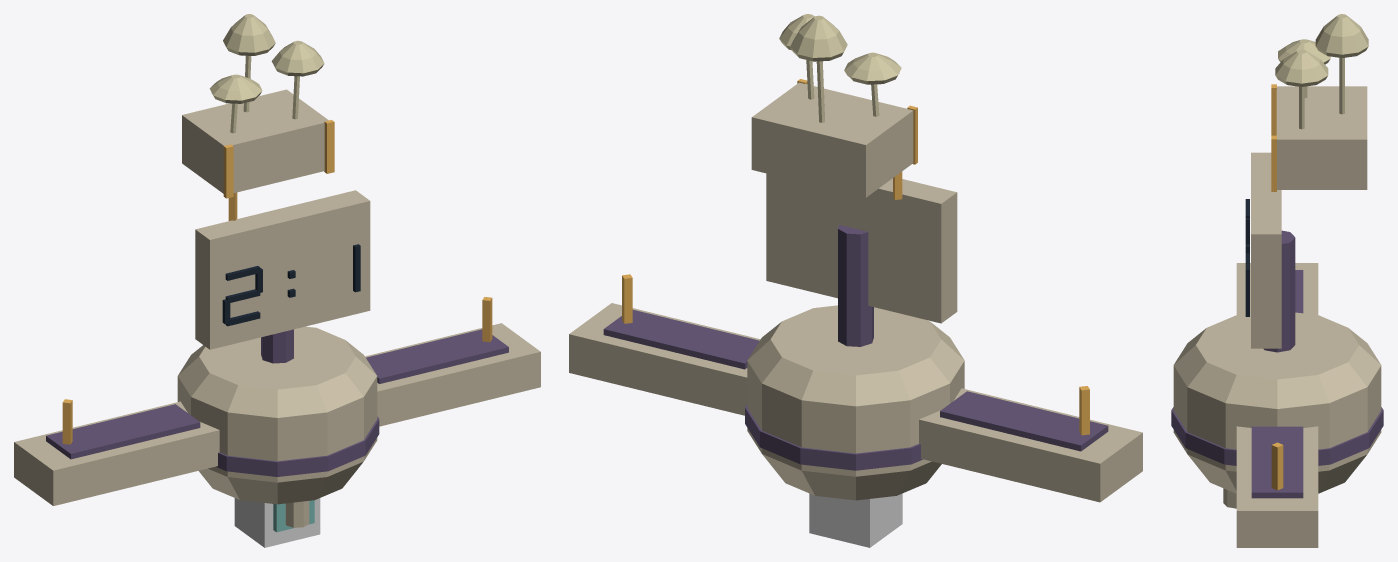
Rendered from space_port_grain.glb.
3 views of the same model, side by side, from view 1: azimuth 30°, elevation 25°; view 2: azimuth 150°, elevation 25°; view 3: azimuth 270°, elevation 25° (orthographic). The views are drawn at different scales.
Parts seen in each view (by area): view 1: FixedDetails, BrassTrim, WoodBody; view 2: FixedDetails, WoodBody, BrassTrim; view 3: FixedDetails, BrassTrim.
Part boxes in pixels (box(x1,y1,x2,y2)): FixedDetails: box(14, 14, 540, 532); BrassTrim: box(62, 120, 492, 444); WoodBody: box(234, 498, 320, 547); FixedDetails: box(569, 14, 1142, 502); WoodBody: box(809, 493, 902, 547); BrassTrim: box(622, 79, 1089, 435); FixedDetails: box(1171, 14, 1383, 547); BrassTrim: box(1271, 84, 1283, 490).
Bounding box in the file's own units: 0.79 × 0.76 × 0.286.
